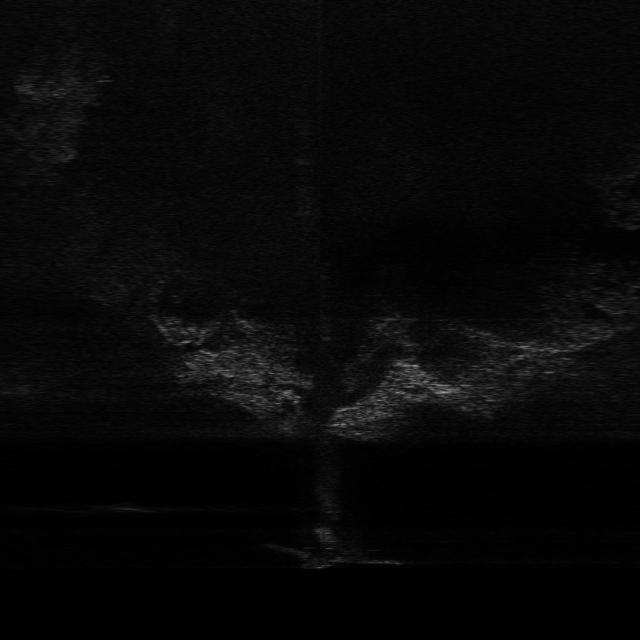plane: (260, 525, 410, 570)
